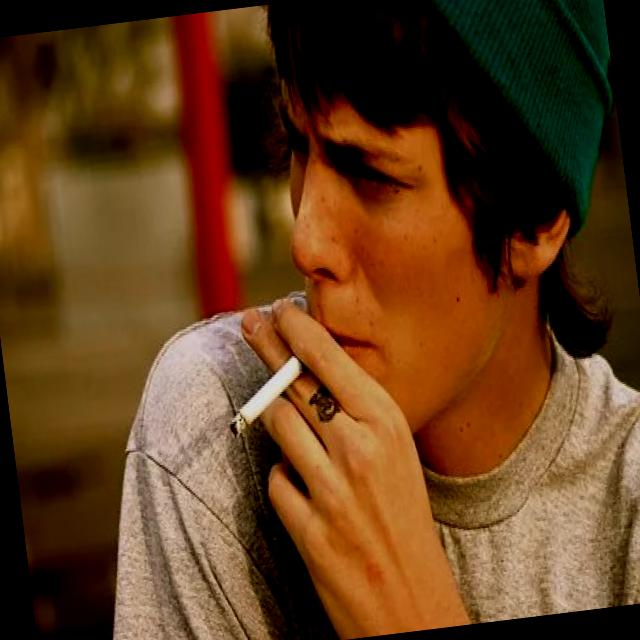cigarette: (220, 352, 314, 446)
